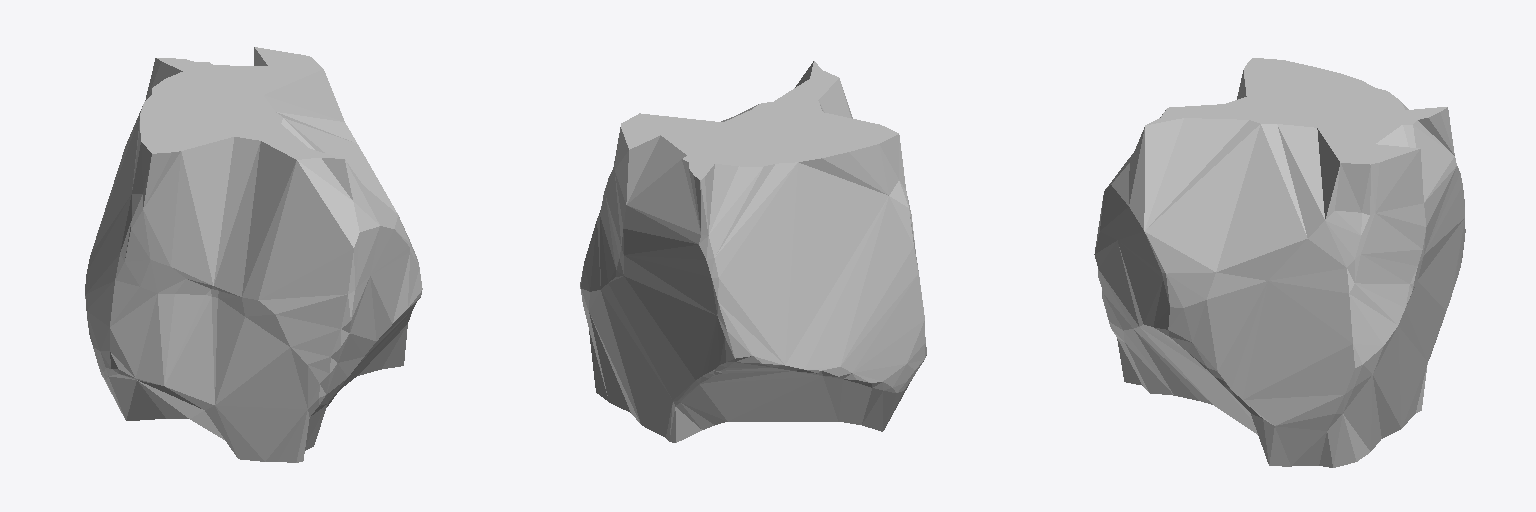
The model's file is rock.obj.
3 renders of one model, left to right at view 1: azimuth 30°, elevation 25°; view 2: azimuth 150°, elevation 25°; view 3: azimuth 270°, elevation 25°, orthographic.
Parts seen in each view (by area): view 1: Cube; view 2: Cube; view 3: Cube.
Boxes of the visible parts, x1,y1,x2,y2 form: Cube: [85, 47, 422, 462]; Cube: [580, 61, 926, 442]; Cube: [1094, 58, 1465, 467].
Bounding box in the file's own units: 2.77 × 2.45 × 2.93.